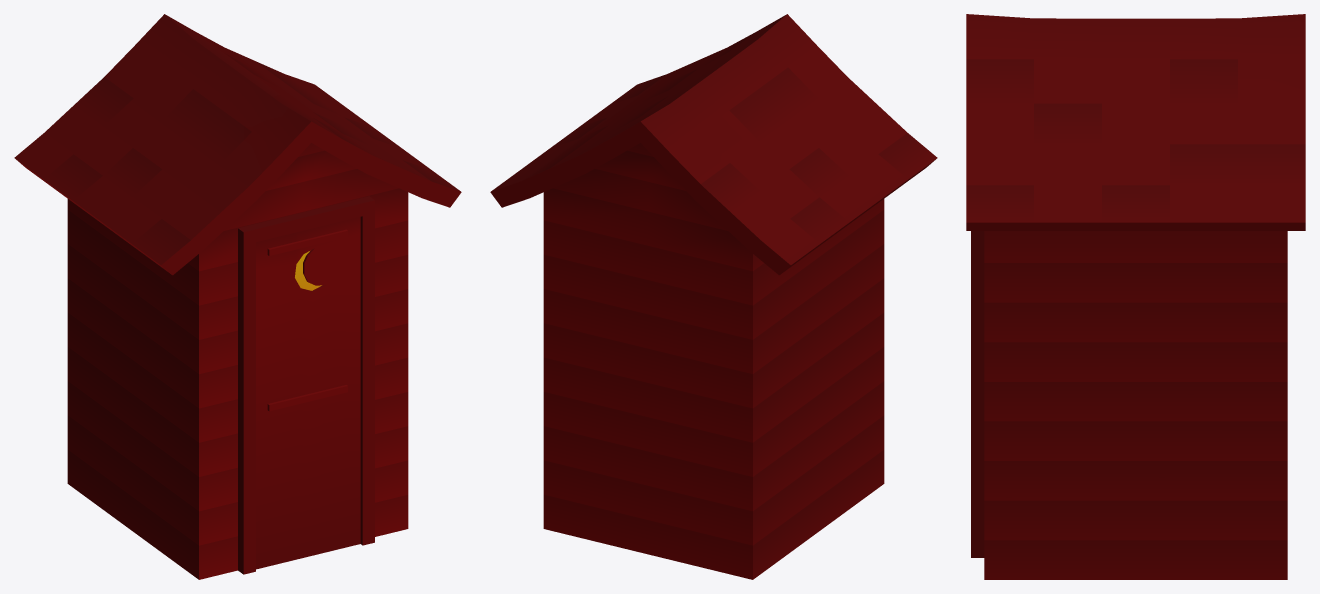
The model's file is Outhouse.glb.
The picture shows the model from 3 angles, left to right: view 1: azimuth 30°, elevation 25°; view 2: azimuth 150°, elevation 25°; view 3: azimuth 270°, elevation 25°; orthographic projection. The views are drawn at different scales.
Visible parts, largest first — view 1: Outhouse; view 2: Outhouse; view 3: Outhouse.
Part boxes in pixels (bbox=[...]): Outhouse: bbox=[14, 14, 461, 579]; Outhouse: bbox=[490, 14, 937, 579]; Outhouse: bbox=[966, 14, 1305, 579].
Bounding box in the file's own units: 15.59 × 21.74 × 13.19.
